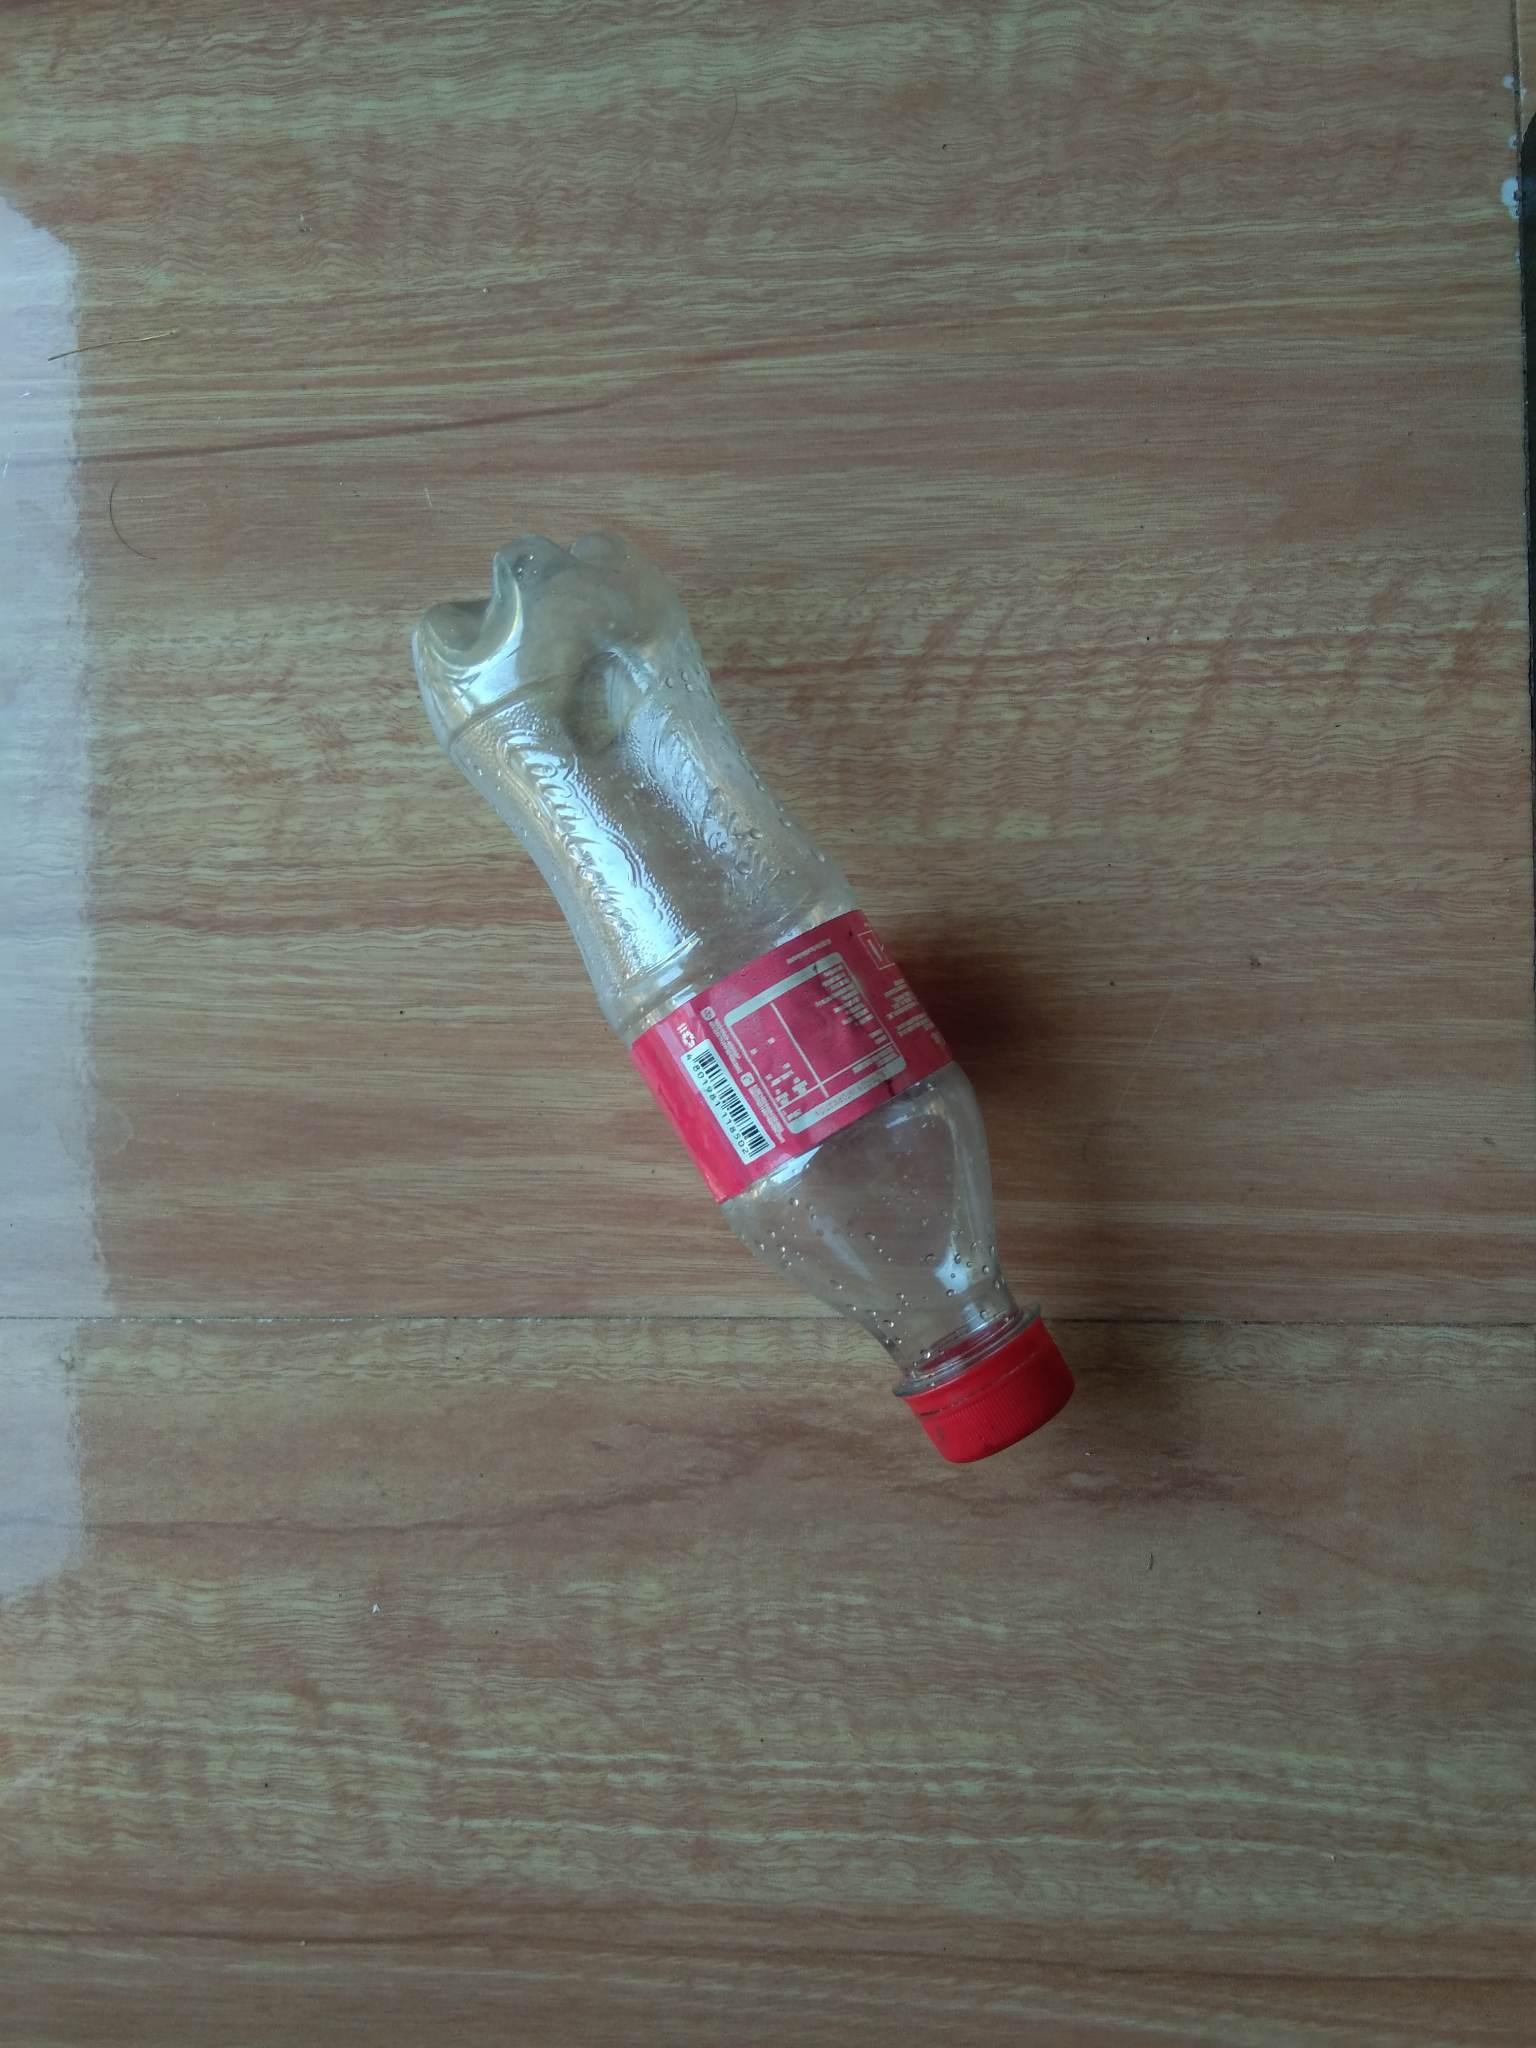plastic: (247, 423, 1136, 1508)
